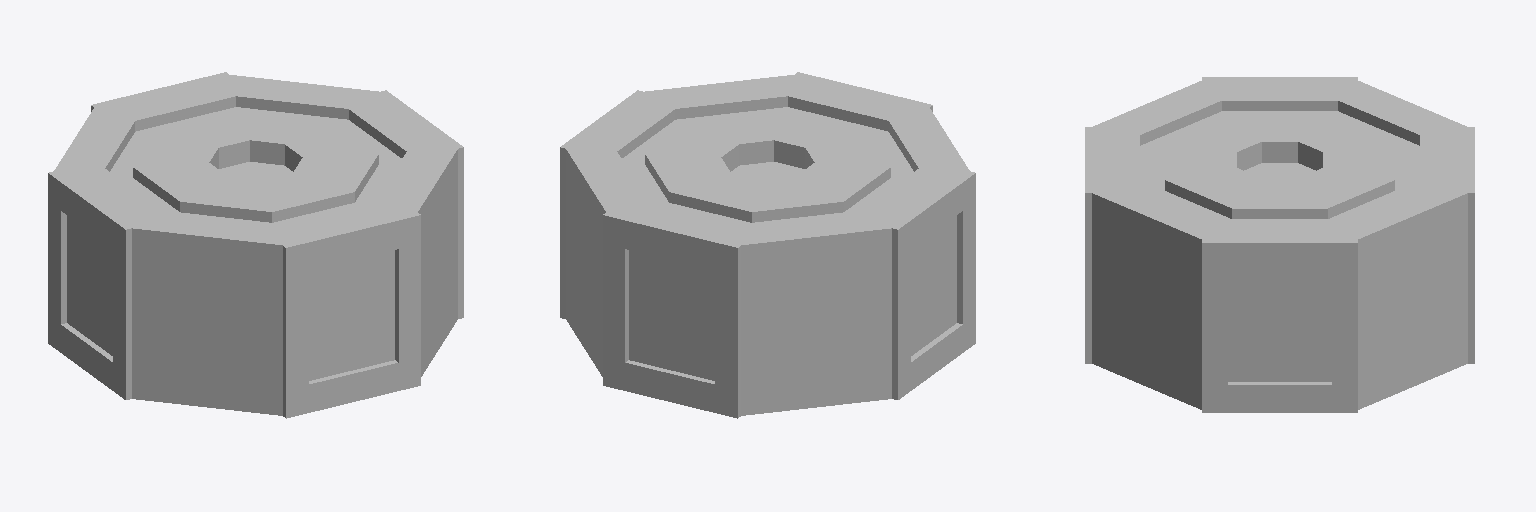
The model's file is modelComponentContainer.obj.
3 views of the same model, side by side, from view 1: azimuth 30°, elevation 25°; view 2: azimuth 150°, elevation 25°; view 3: azimuth 270°, elevation 25° (orthographic).
Parts seen in each view (by area): view 1: Container; view 2: Container; view 3: Container.
Part boxes in pixels (left/top/right/bottom): Container: left=48, top=72, right=463, bottom=418; Container: left=560, top=72, right=975, bottom=418; Container: left=1085, top=77, right=1474, bottom=412.
Bounding box in the file's own units: 0.5188 × 0.2812 × 0.5188.